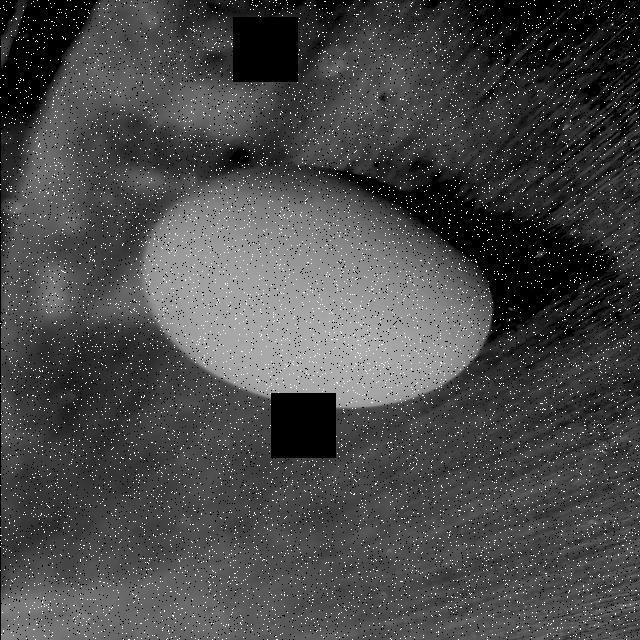egg: (133, 160, 497, 410)
